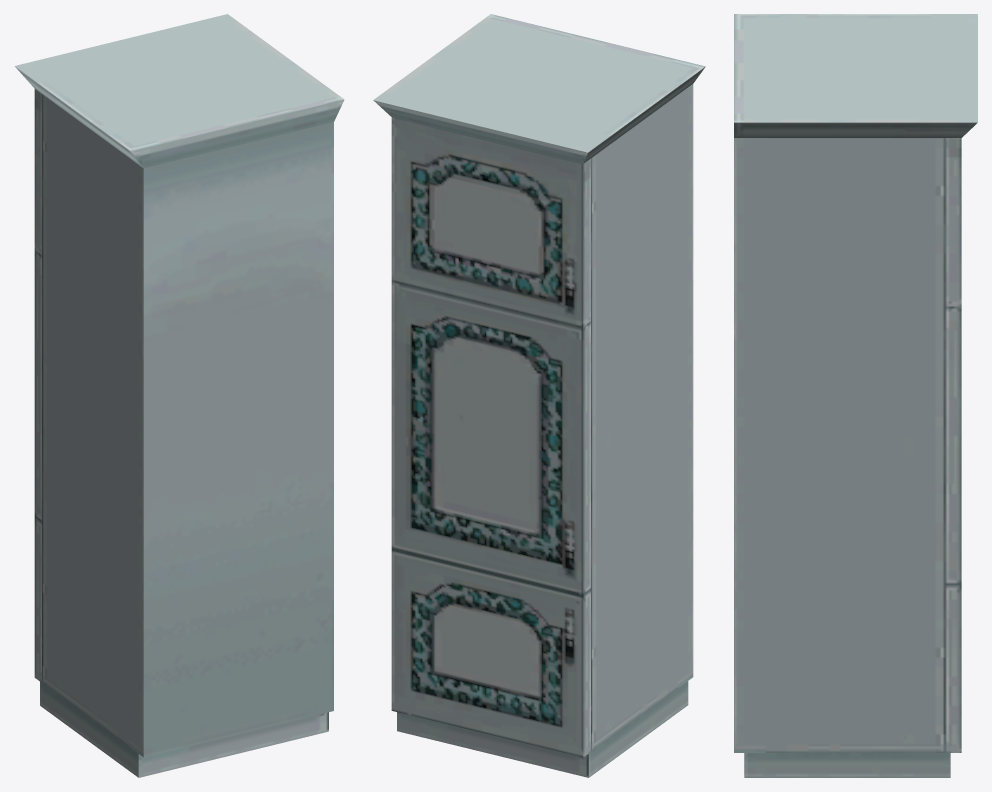
Rendered from furni_0200093_03.FBX.
3 views of the same model, side by side, from view 1: azimuth 30°, elevation 25°; view 2: azimuth 150°, elevation 25°; view 3: azimuth 270°, elevation 25° (orthographic). The views are drawn at different scales.
Visible parts, largest first — view 1: furni_0200093_03; view 2: furni_0200093_03; view 3: furni_0200093_03.
Part boxes in pixels (box(x1,y1,x2,y2)): furni_0200093_03: box(14, 14, 344, 777); furni_0200093_03: box(373, 14, 705, 777); furni_0200093_03: box(734, 14, 977, 777).
Bounding box in the file's own units: 77.73 × 220 × 73.75.
